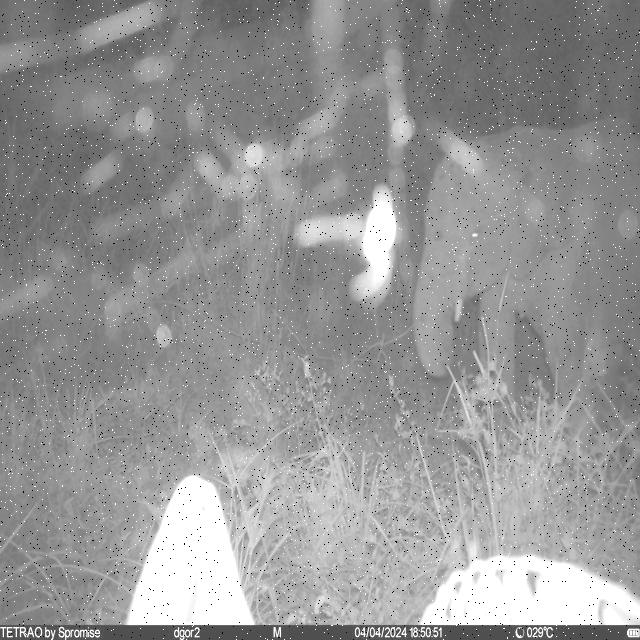calf: (413, 113, 640, 420)
ear: (508, 154, 578, 288)
tusk: (454, 301, 466, 327)
